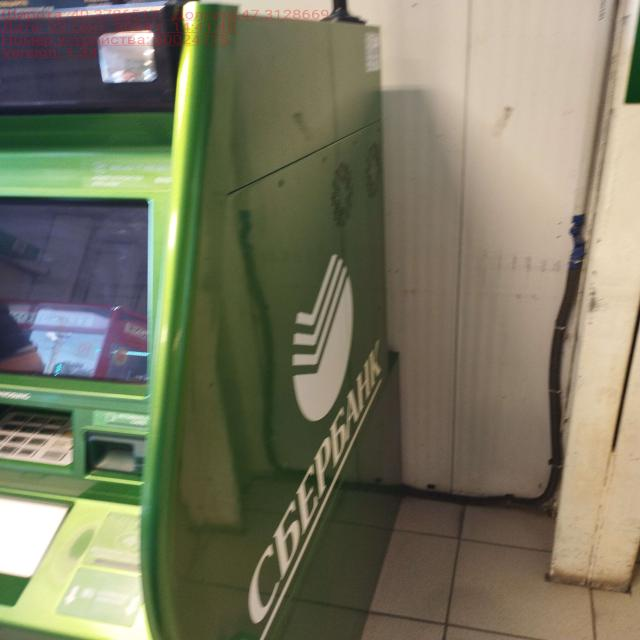bank: (0, 4, 404, 640)
